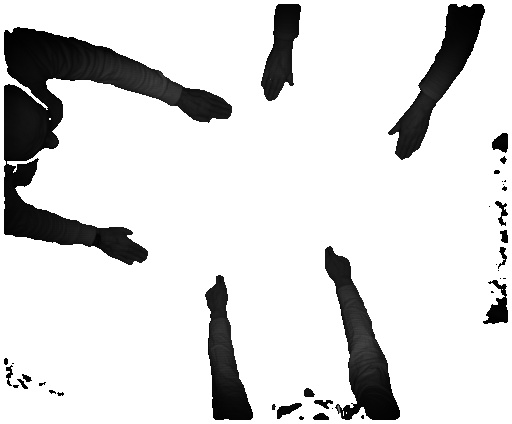hand: (100, 224, 151, 271), (384, 111, 431, 159), (256, 53, 295, 103), (185, 87, 231, 127), (320, 240, 356, 282), (200, 272, 231, 314)
